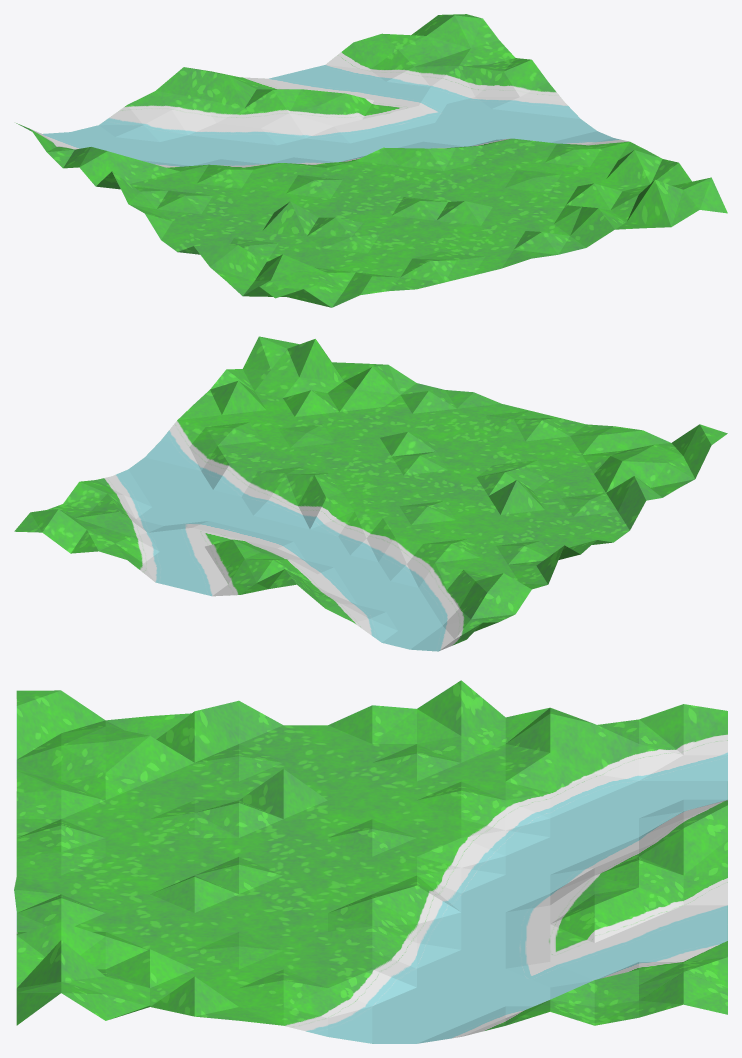
File: Ground2.obj
3 renders of one model, top to bottom at view 1: azimuth 30°, elevation 25°; view 2: azimuth 150°, elevation 25°; view 3: azimuth 270°, elevation 25°, orthographic. The views are drawn at different scales.
Parts seen in each view (by area): view 1: 平面; view 2: 平面; view 3: 平面.
Boxes of the visible parts, x1=… form: 平面: x1=16, y1=14, x2=727, y2=307; 平面: x1=14, y1=336, x2=727, y2=651; 平面: x1=14, y1=680, x2=727, y2=1043.
Bounding box in the file's own units: 20 × 2.06 × 20.08.
1 material, 1 textured.
